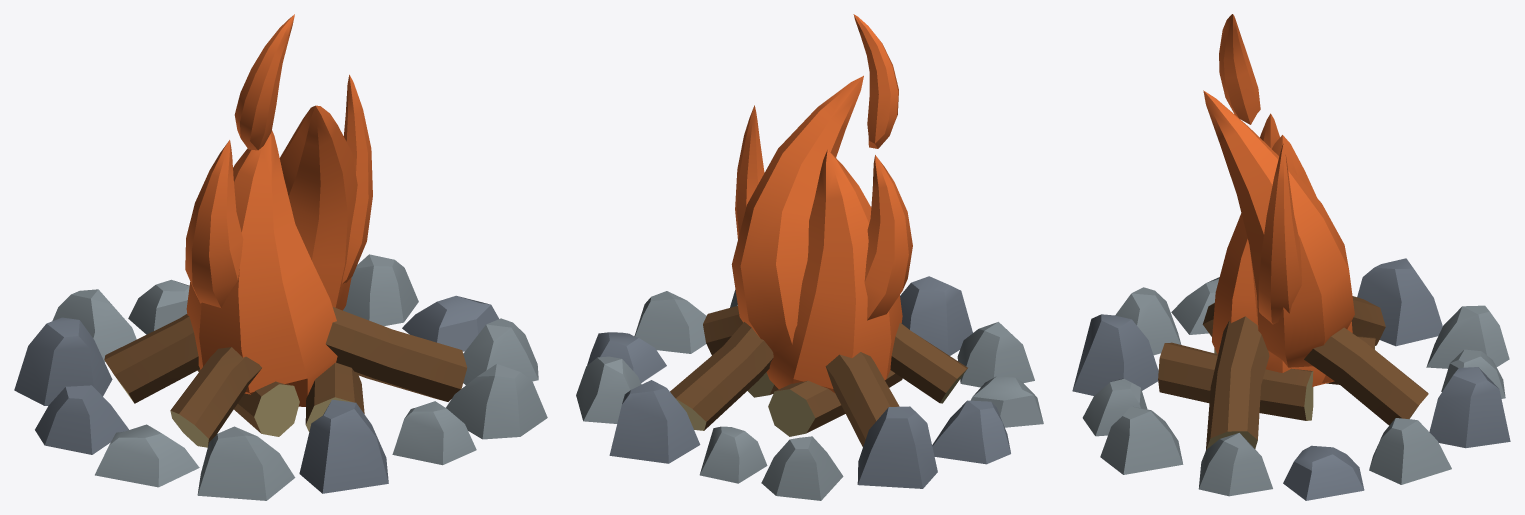
File: Bonfire_Lit.glb
3 renders of one model, left to right at view 1: azimuth 30°, elevation 25°; view 2: azimuth 150°, elevation 25°; view 3: azimuth 270°, elevation 25°, orthographic. The views are drawn at different scales.
Parts seen in each view (by area): view 1: Bonfire_Lit; view 2: Bonfire_Lit; view 3: Bonfire_Lit.
Boxes of the visible parts, x1,y1,x2,y2 form: Bonfire_Lit: (14,14,547,500); Bonfire_Lit: (576,14,1043,500); Bonfire_Lit: (1072,14,1510,500).
Size of the model in its own units: 0.4066 by 0.3529 by 0.3624.
